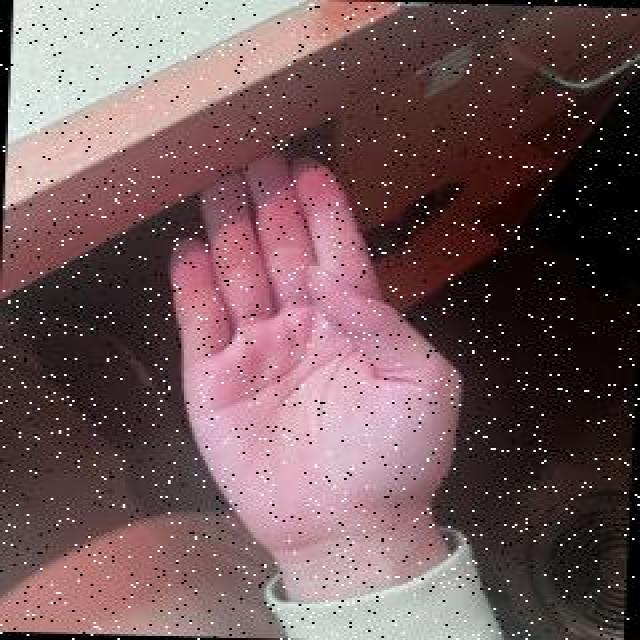B: (149, 126, 480, 564)
